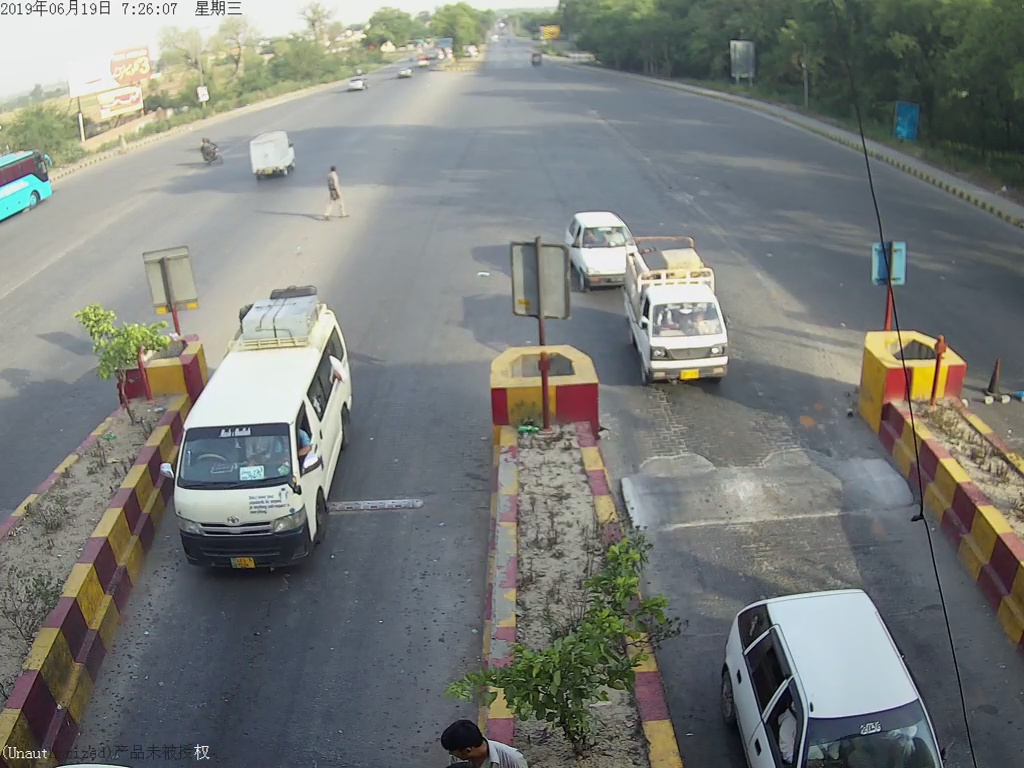Cat-1: (626, 243, 736, 391), (571, 202, 621, 291)
Cat-2: (179, 286, 352, 583)
